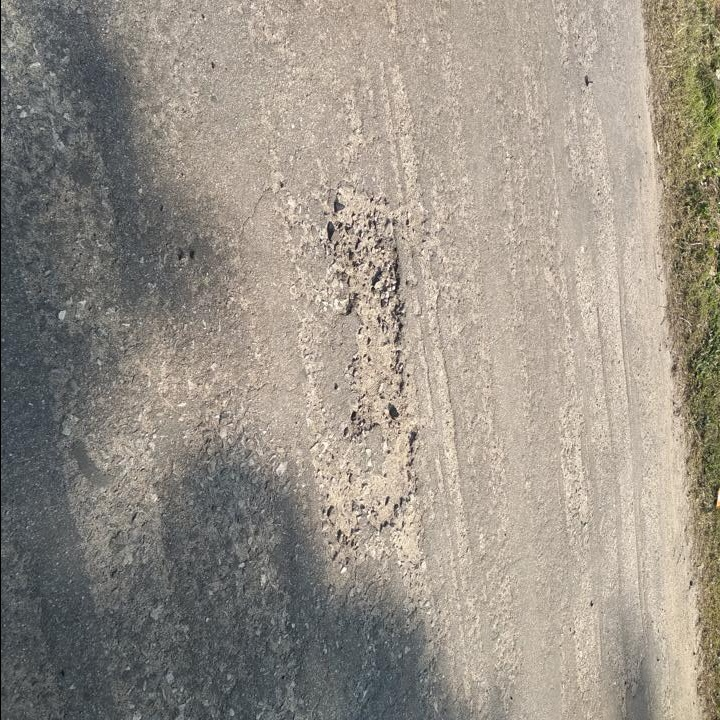pothole: (325, 180, 423, 538)
